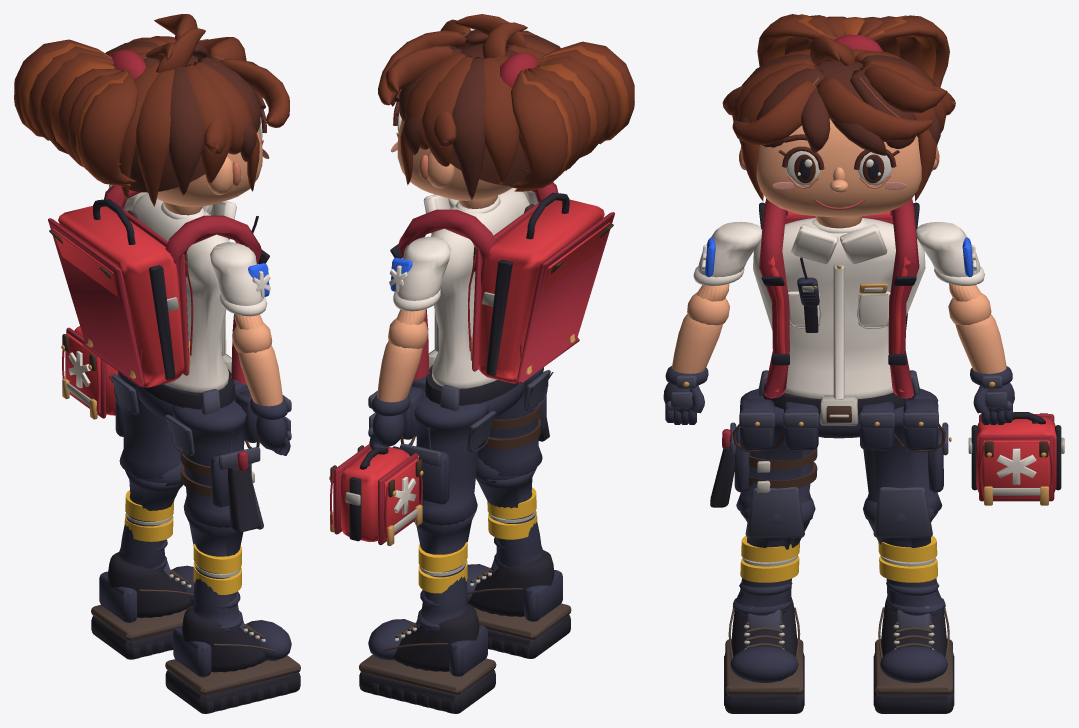
The model's file is npc.paramedic.glb.
3 renders of one model, left to right at view 1: azimuth 30°, elevation 25°; view 2: azimuth 150°, elevation 25°; view 3: azimuth 270°, elevation 25°, orthographic.
Parts seen in each view (by area): view 1: head, torso, footR, legR, footL, shinR, shinL, legL, armR, foreArmR, handL, hip (+1 smaller); view 2: head, torso, footL, handL, footR, legL, shinL, shinR, legR, armL, foreArmL, hip; view 3: head, torso, hip, handL, legR, footL, footR, legL, shinR, shinL, foreArmL, foreArmR (+3 smaller).
Part boxes in pixels (x1,y1,x2,y2): head: (14,14,289,215); torso: (48,185,269,392); footR: (165,606,300,713); legR: (163,395,263,532); footL: (91,552,194,659); shinR: (184,512,243,631); shinL: (118,462,183,572); legL: (109,371,181,479); armR: (210,242,270,329); foreArmR: (232,322,291,419); handL: (61,326,118,419); hip: (136,354,259,448); head: (378,14,634,208); torso: (390,182,614,388); footL: (359,605,496,713); handL: (329,412,423,545); footR: (466,550,571,658); legL: (400,391,498,526); shinL: (414,510,476,630); shinR: (476,456,543,570); legR: (478,367,553,476); armL: (389,236,450,324); foreArmL: (368,318,428,416); hip: (400,349,525,445); head: (722,14,955,228); torso: (753,198,925,399); hip: (732,370,945,452); handL: (968,382,1064,505); legR: (710,388,817,537); footL: (873,596,954,713); footR: (724,597,804,713); legL: (863,388,951,537); shinR: (732,498,815,615); shinL: (863,498,945,615); foreArmL: (948,293,1012,388); foreArmR: (665,292,729,388).
Bounding box in the file's own units: 0.591 × 1.8 × 1.01.
